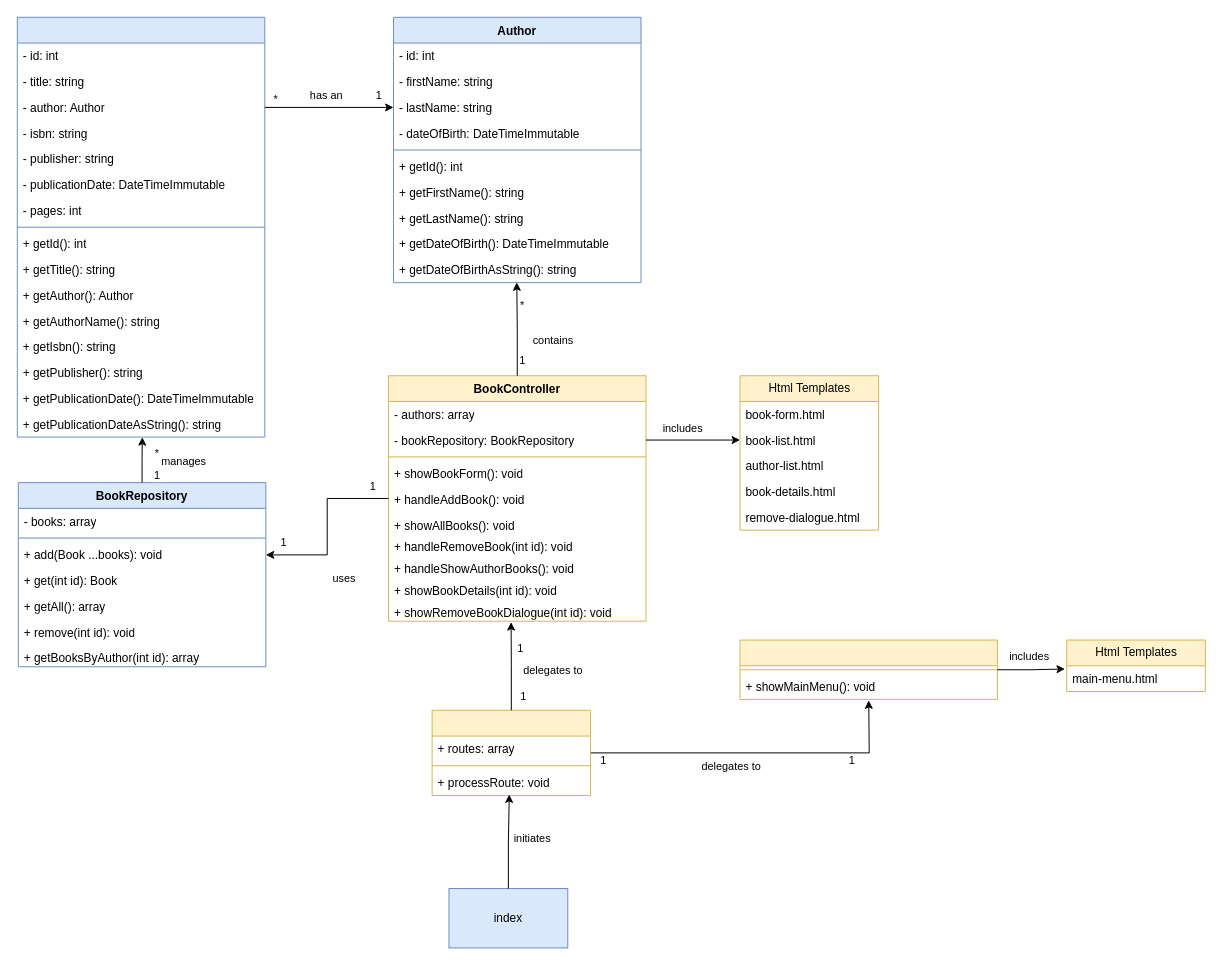
This 1223x965 diagram has some shape labels left out. The shapes that lost their labels are listed below. From the top down, each one's box as (x1, y1, x2, y2) in pixels, then its label:
(16, 16, 265, 437): Book
(739, 639, 997, 699): MainController
(431, 709, 591, 795): Router
